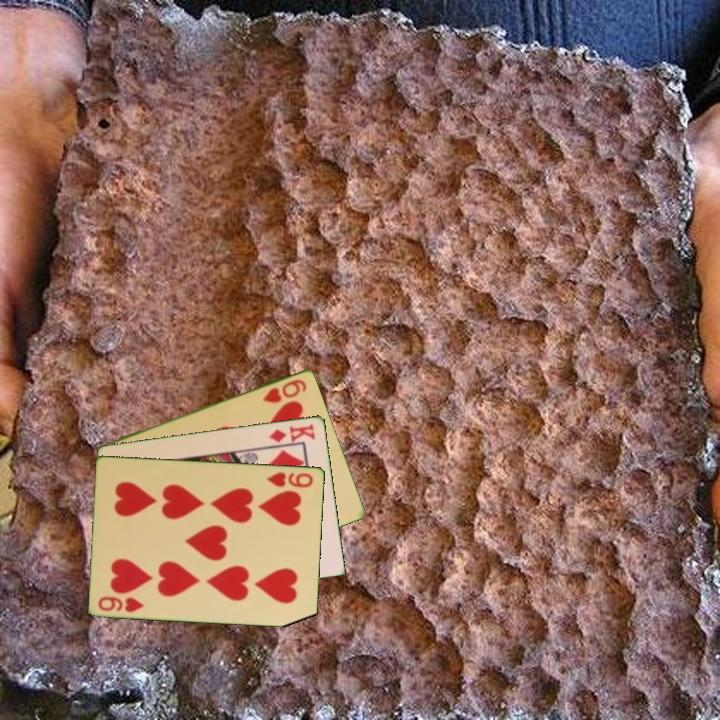6h: (259, 375, 310, 406)
9h: (263, 468, 316, 490), (95, 593, 147, 615)
Kd: (266, 420, 318, 445)
